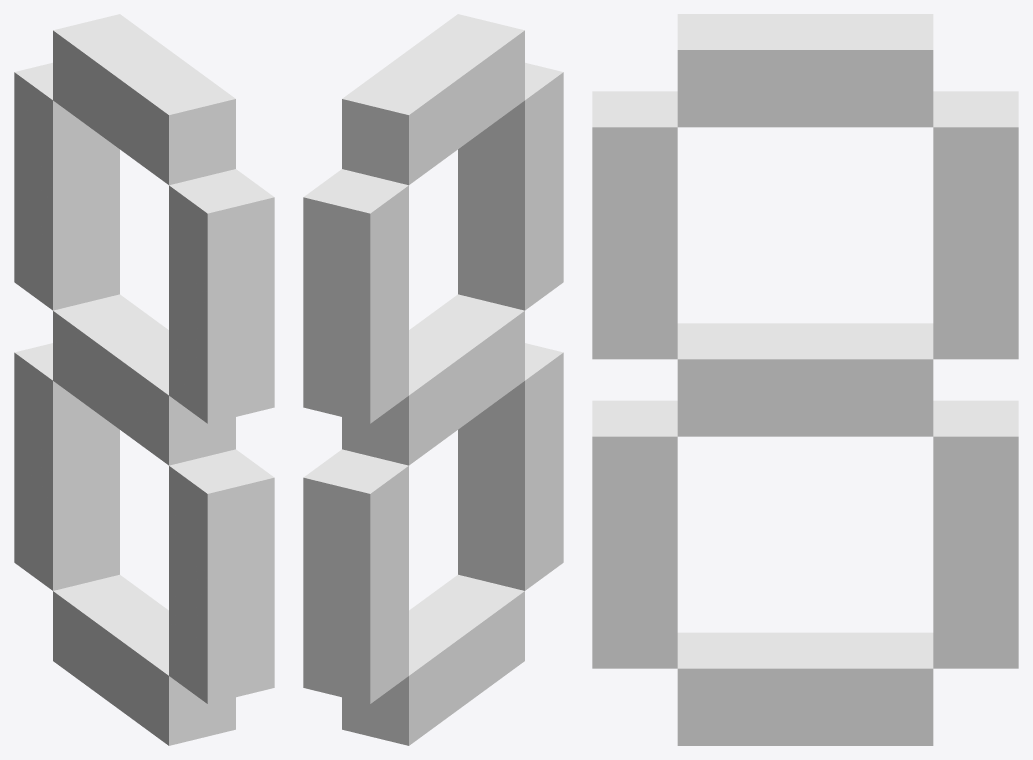
Rendered from dig_8.obj.
The picture shows the model from 3 angles, left to right: view 1: azimuth 30°, elevation 25°; view 2: azimuth 150°, elevation 25°; view 3: azimuth 270°, elevation 25°; orthographic projection. The views are drawn at different scales.
Size of the model in its own units: 0.1 by 0.9 by 0.5.
Materials: 1 (1 with a texture image).
